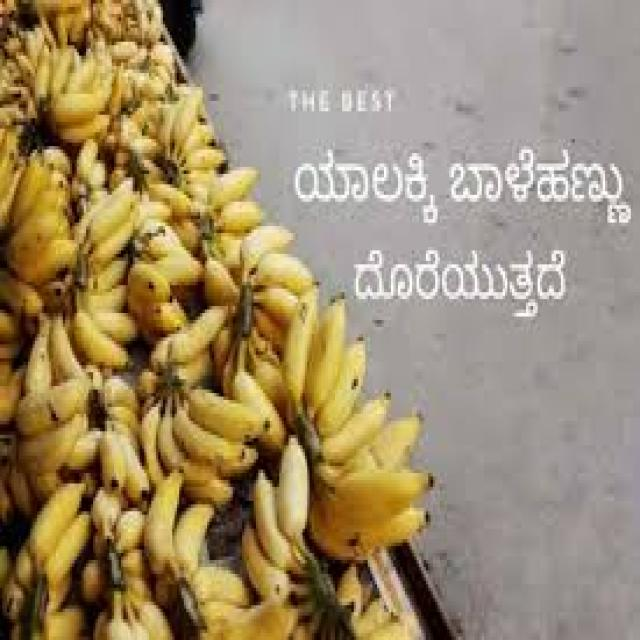banana: (268, 289, 419, 563), (4, 476, 93, 640), (146, 371, 254, 486), (29, 360, 132, 472), (74, 188, 138, 346), (92, 490, 160, 637), (5, 144, 66, 292), (220, 242, 294, 364), (26, 50, 108, 133), (183, 178, 256, 266), (152, 105, 222, 192)
